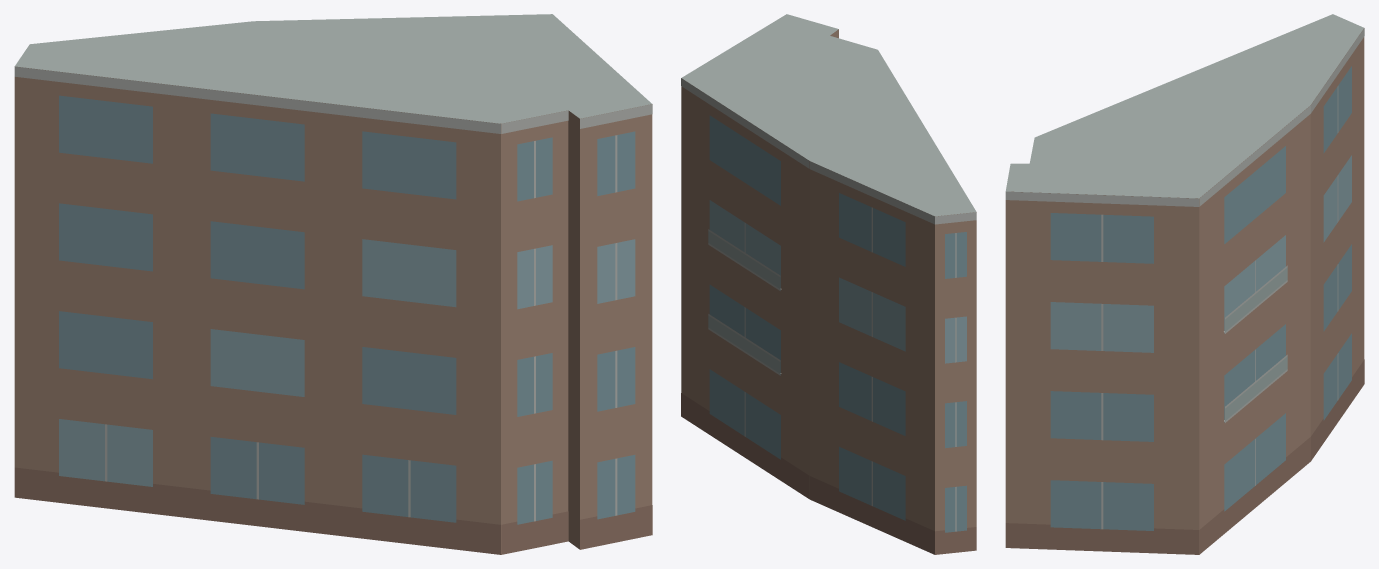
Rendered from survey-upis-32595118.glb.
3 views of the same model, side by side, from view 1: azimuth 30°, elevation 25°; view 2: azimuth 150°, elevation 25°; view 3: azimuth 270°, elevation 25° (orthographic). The views are drawn at different scales.
Parts seen in each view (by area): view 1: survey-upis-32595118.tmp; view 2: survey-upis-32595118.tmp; view 3: survey-upis-32595118.tmp.
Part boxes in pixels (bbox=[...]): survey-upis-32595118.tmp: bbox=[14, 14, 652, 554]; survey-upis-32595118.tmp: bbox=[681, 14, 976, 554]; survey-upis-32595118.tmp: bbox=[1005, 14, 1364, 554].
Size of the model in its own units: 11.32 by 10.19 by 9.31.
